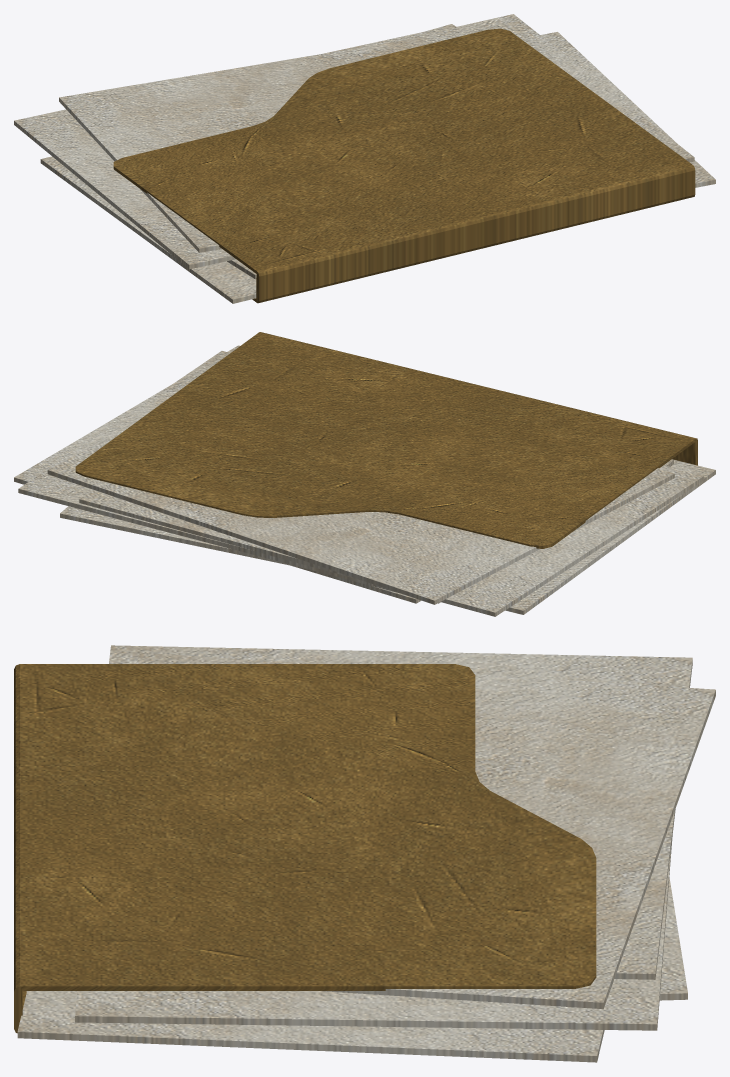
File: DocumentsFolder.fbx
3 renders of one model, top to bottom at view 1: azimuth 30°, elevation 25°; view 2: azimuth 150°, elevation 25°; view 3: azimuth 270°, elevation 25°, orthographic. The views are drawn at different scales.
Parts seen in each view (by area): view 1: Document, Plane.001; view 2: Document, Plane.001; view 3: Document, Plane.001.
Boxes of the visible parts, left/top/right/bottom form: Document: left=113, top=28, right=695, bottom=303; Plane.001: left=14, top=14, right=715, bottom=303; Document: left=75, top=332, right=697, bottom=548; Plane.001: left=14, top=345, right=715, bottom=616; Document: left=14, top=664, right=596, bottom=1033; Plane.001: left=17, top=645, right=715, bottom=1062.
Bounding box in the file's own units: 318 × 18.17 × 241.
2 materials, 2 textured.
